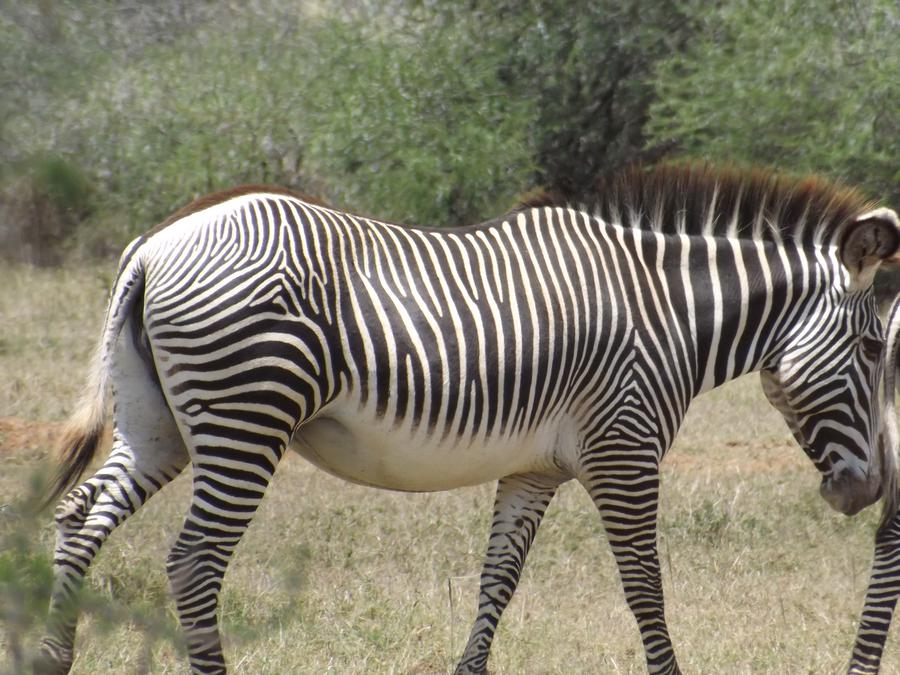zebra_grevys: (119, 173, 671, 466)
